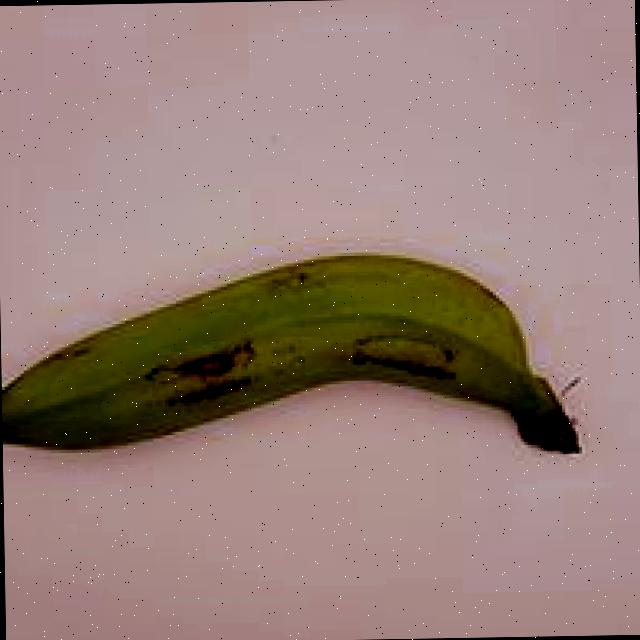Raw: (0, 212, 611, 527)
